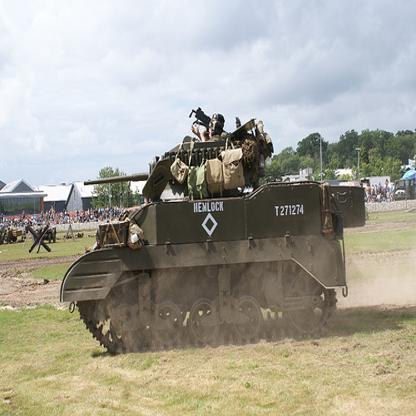Tank: (45, 111, 372, 350)
